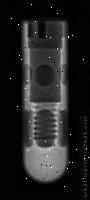Camlog: (19, 19, 71, 187)
